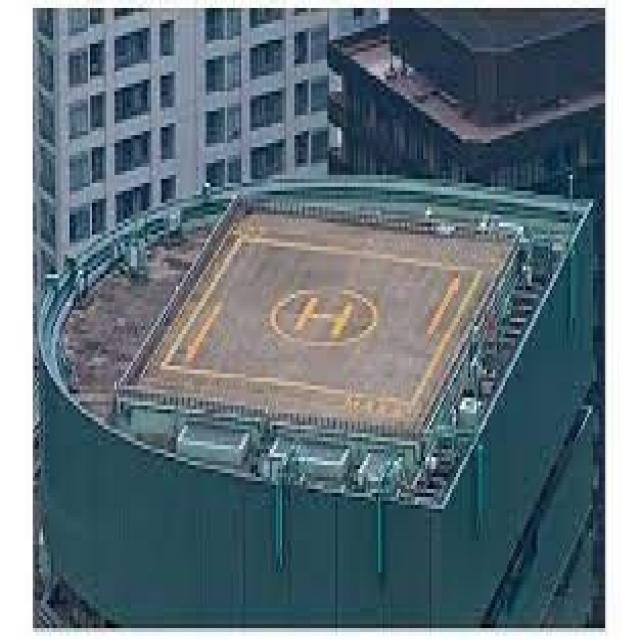helipad: (264, 274, 376, 350)
